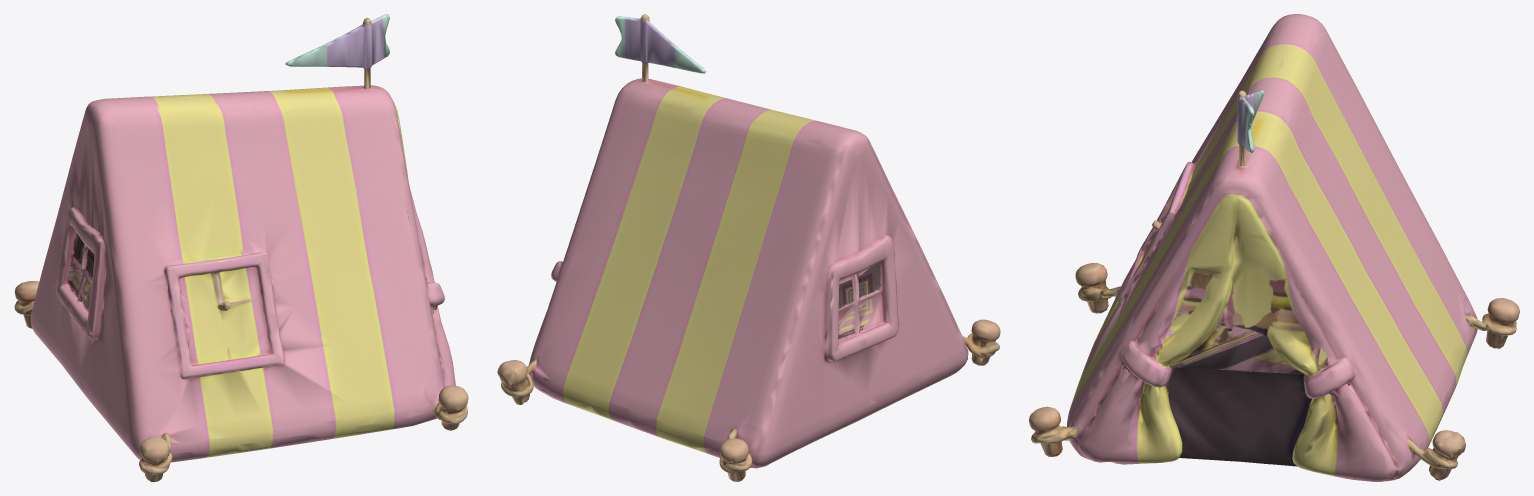
The picture shows the model from 3 angles, left to right: view 1: azimuth 30°, elevation 25°; view 2: azimuth 150°, elevation 25°; view 3: azimuth 270°, elevation 25°; orthographic projection. The views are drawn at different scales.
Visible parts, largest first — view 1: repaired; view 2: repaired; view 3: repaired.
Boxes of the visible parts, x1,y1,x2,y2 form: repaired: (14, 14, 468, 481); repaired: (497, 14, 1000, 481); repaired: (1029, 14, 1519, 481).
Bounding box in the file's own units: 0.8821 × 0.8285 × 0.9996.
1 material, 1 textured.
